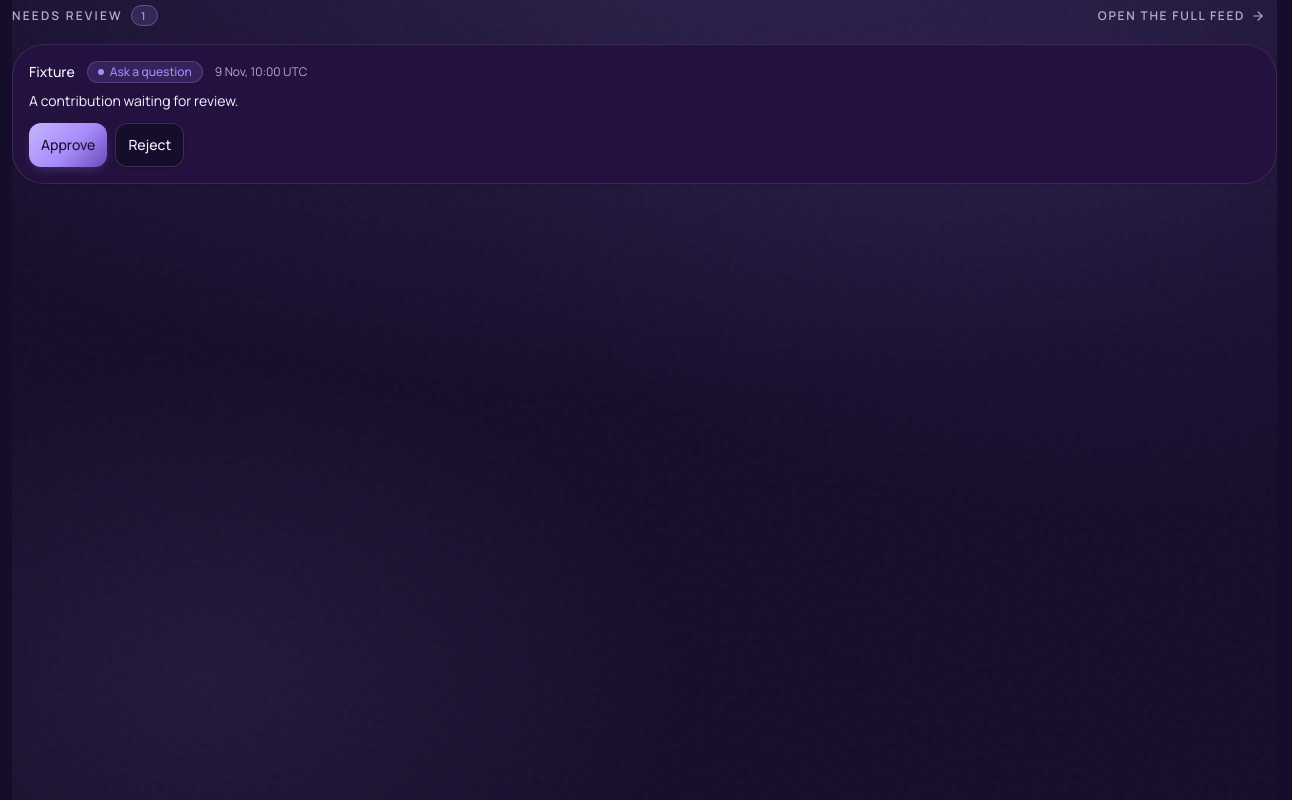
it: a stale decision preserves feedback, refreshes the queue and requires an explicit retry using the refreshed revision
The width and height of the screenshot is (1292, 800).
Later steps or results of the test are not shown.
Click the button "Approve".
click(68, 145)  # box [29,123,107,167]
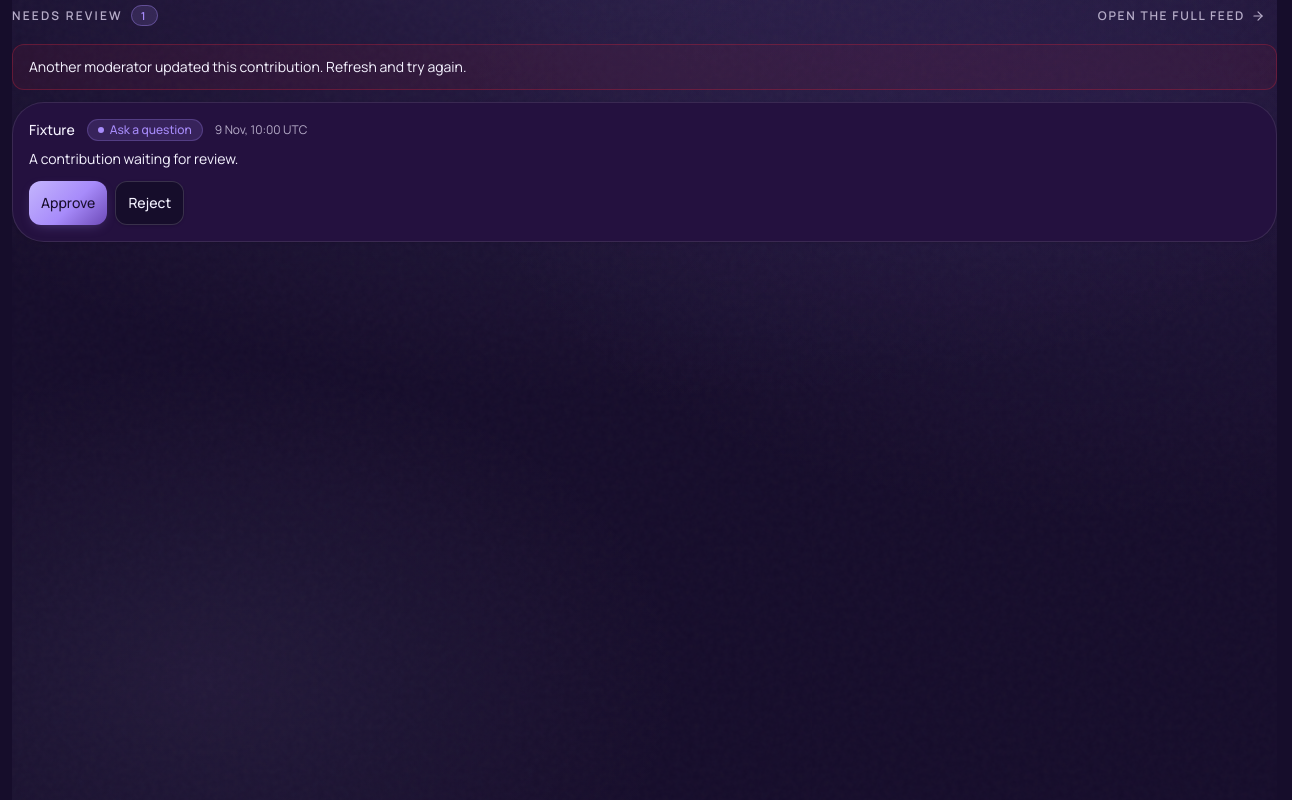
Expected: the text "A contribution waiting for review." is shown, [29,149,238,168]
Now the message shows "Another moderator updated", box [29,57,466,76]
